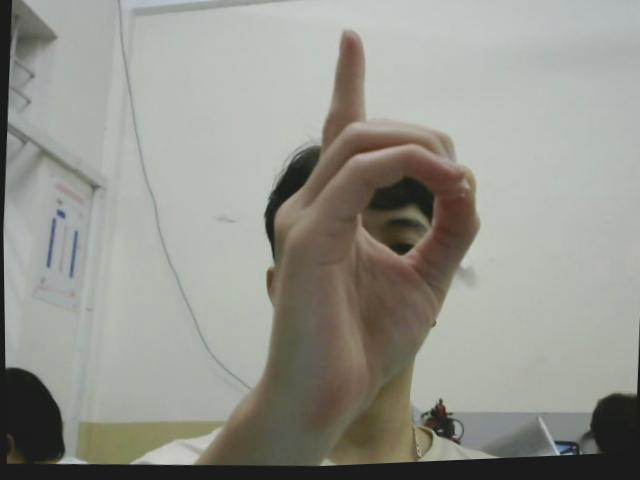D: (262, 22, 492, 423)
